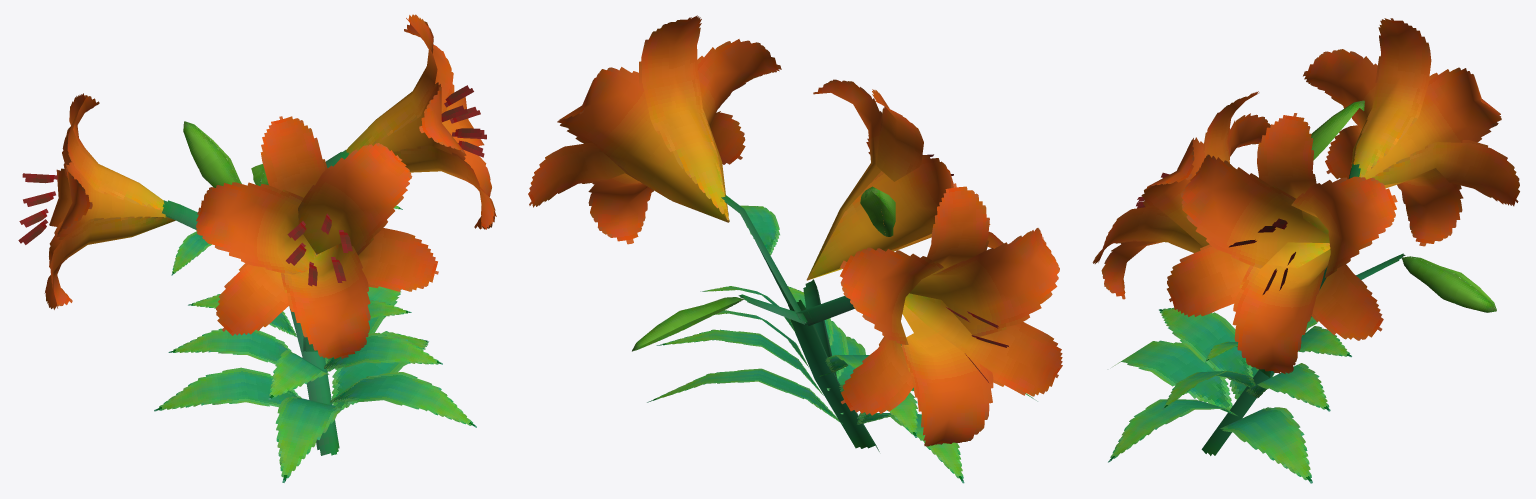
File: orange-lilies.glb
The picture shows the model from 3 angles, left to right: view 1: azimuth 30°, elevation 25°; view 2: azimuth 150°, elevation 25°; view 3: azimuth 270°, elevation 25°; orthographic projection. The views are drawn at different scales.
Bounding box in the file's own units: 9.48 × 7.92 × 7.59.
2 materials, 2 textured.
